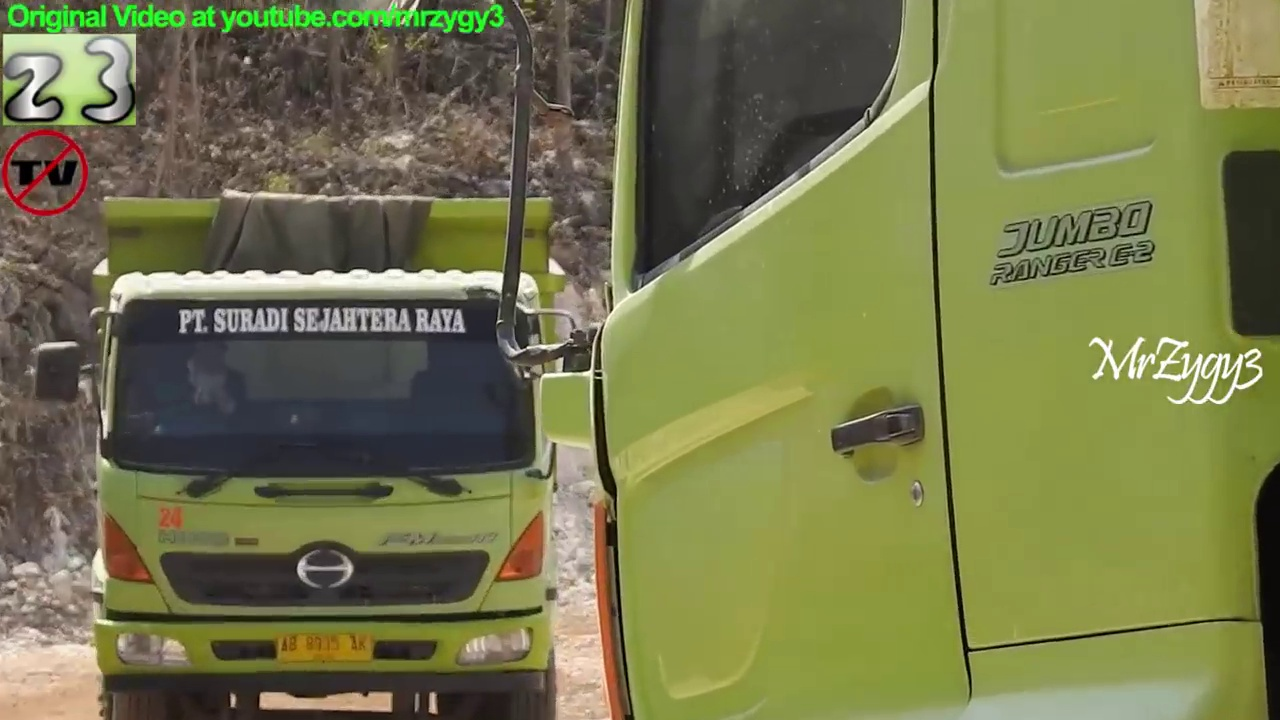truck: (396, 1, 1280, 720), (26, 185, 621, 720)
